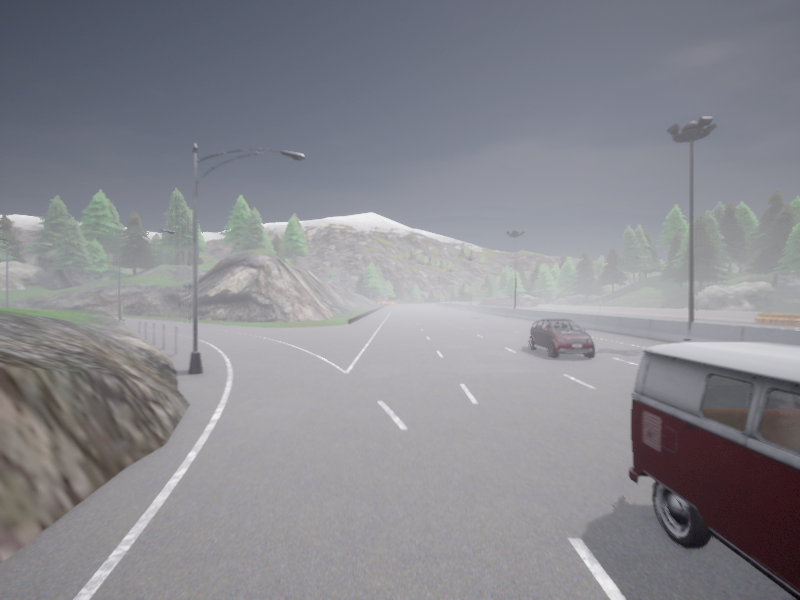vehicle: (628, 341, 799, 599), (529, 319, 594, 357)
